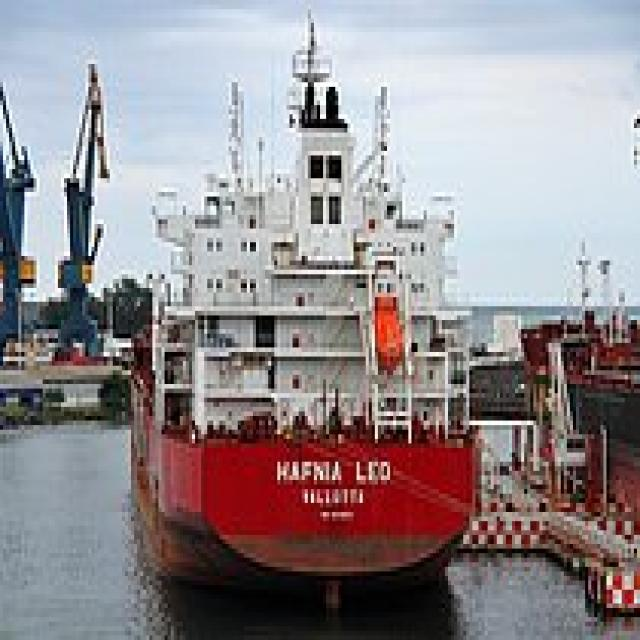Tanker: (119, 0, 481, 590)
